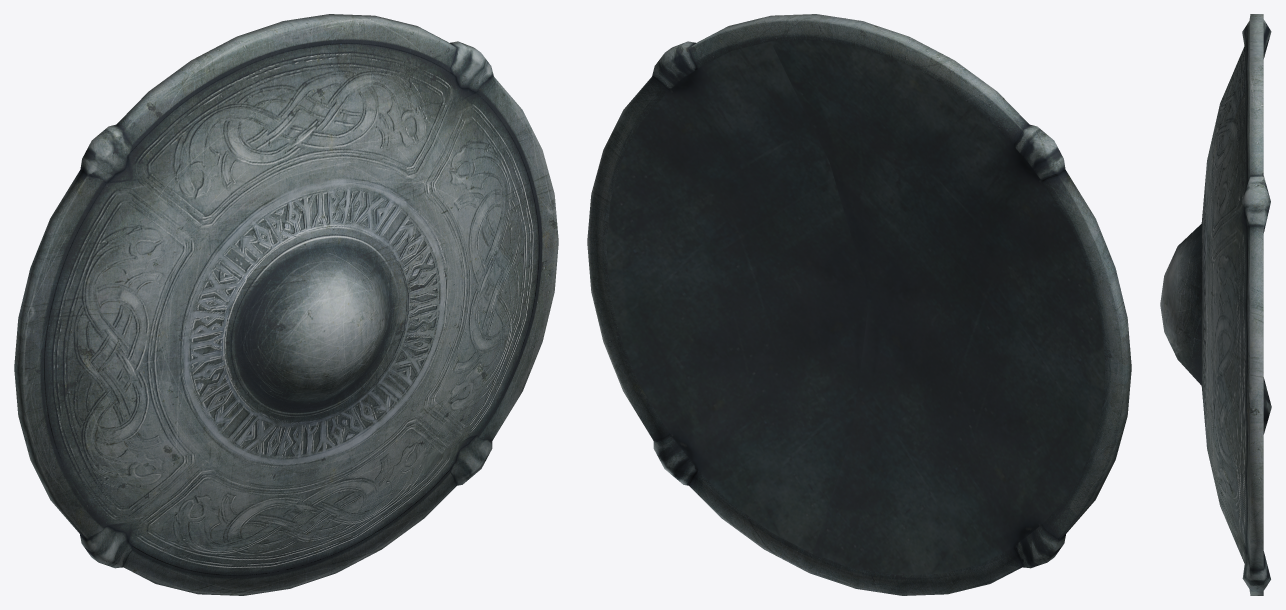
The model's file is shield_small.FBX.
3 renders of one model, left to right at view 1: azimuth 30°, elevation 25°; view 2: azimuth 150°, elevation 25°; view 3: azimuth 270°, elevation 25°, orthographic. The views are drawn at different scales.
Parts seen in each view (by area): view 1: shield_small; view 2: shield_small; view 3: shield_small.
Part boxes in pixels (x1,y1,x2,y2): shield_small: (14,14,558,595); shield_small: (587,14,1131,595); shield_small: (1160,14,1271,595).
Size of what is drawn, in the model's own units: 32.9 by 32.9 by 6.29.
